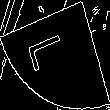L_E: (32, 32, 78, 78)
